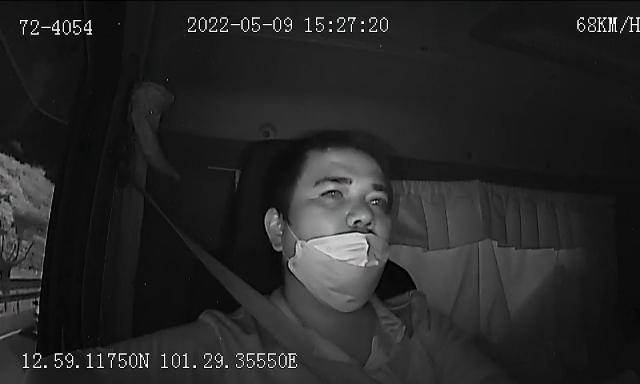SafeDriving: (314, 180, 351, 205), (361, 186, 394, 211)
Seatbelt: (171, 220, 381, 384)
